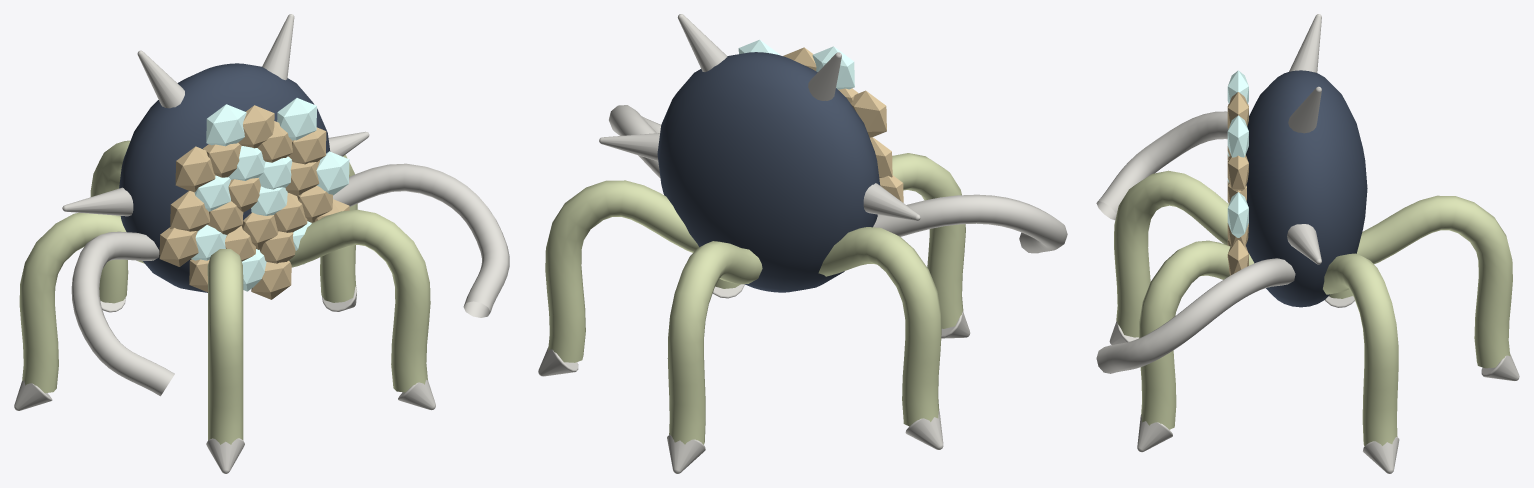
Rendered from bio_crown_stalker_09_near.glb.
The picture shows the model from 3 angles, left to right: view 1: azimuth 30°, elevation 25°; view 2: azimuth 150°, elevation 25°; view 3: azimuth 270°, elevation 25°; orthographic projection. The views are drawn at different scales.
Visible parts, largest first — view 1: Compound lens facet.001, Faceted crown substrate, Crooked support.003, Compound lens facet, Crooked support.001, Scythe sensory limb.001, Crooked support.002, Scythe sensory limb, Crown radiating blade, Crooked support, Crooked support.004, Contact spur.002 (+2 smaller); view 2: Faceted crown substrate, Crooked support.004, Crooked support.001, Crooked support, Scythe sensory limb, Crooked support.002, Crown radiating blade, Compound lens facet.001, Scythe sensory limb.001, Compound lens facet, Contact spur, Contact spur.001 (+1 smaller); view 3: Faceted crown substrate, Crooked support, Crooked support.002, Crooked support.004, Crooked support.003, Scythe sensory limb.001, Scythe sensory limb, Crown radiating blade, Compound lens facet.001, Compound lens facet, Contact spur.004, Contact spur.003 (+1 smaller).
Boxes of the visible parts, <box> form: Compound lens facet.001: <box>159,105,349,299</box>; Faceted crown substrate: <box>119,63,330,292</box>; Crooked support.003: <box>289,209,430,392</box>; Compound lens facet: <box>191,98,349,291</box>; Crooked support.001: <box>19,212,144,393</box>; Scythe sensory limb.001: <box>333,163,509,317</box>; Crooked support.002: <box>207,249,243,444</box>; Scythe sensory limb: <box>71,231,174,396</box>; Crown radiating blade: <box>62,14,369,216</box>; Crooked support: <box>90,140,130,303</box>; Crooked support.004: <box>320,154,357,302</box>; Contact spur.002: <box>206,438,244,473</box>; Faceted crown substrate: <box>657,52,880,292</box>; Crooked support.004: <box>545,180,699,362</box>; Crooked support.001: <box>818,227,941,426</box>; Crooked support: <box>667,241,762,444</box>; Scythe sensory limb: <box>873,194,1067,253</box>; Crooked support.002: <box>892,153,965,328</box>; Crown radiating blade: <box>599,14,920,220</box>; Compound lens facet.001: <box>783,47,903,202</box>; Scythe sensory limb.001: <box>609,105,661,178</box>; Compound lens facet: <box>738,39,854,89</box>; Contact spur: <box>667,434,705,473</box>; Contact spur.001: <box>905,410,943,449</box>; Faceted crown substrate: <box>1246,70,1367,307</box>; Crooked support: <box>1356,195,1512,368</box>; Crooked support.002: <box>1114,170,1228,337</box>; Crooked support.004: <box>1323,253,1398,446</box>; Crooked support.003: <box>1139,240,1253,429</box>; Scythe sensory limb.001: <box>1096,258,1295,373</box>; Scythe sensory limb: <box>1096,111,1228,219</box>; Crown radiating blade: <box>1287,14,1321,264</box>; Compound lens facet.001: <box>1227,92,1248,275</box>; Compound lens facet: <box>1227,70,1248,237</box>; Contact spur.004: <box>1363,437,1399,473</box>; Contact spur.003: <box>1137,414,1172,452</box>.
Bounding box in the file's own units: 2.58 × 2.03 × 2.29.
